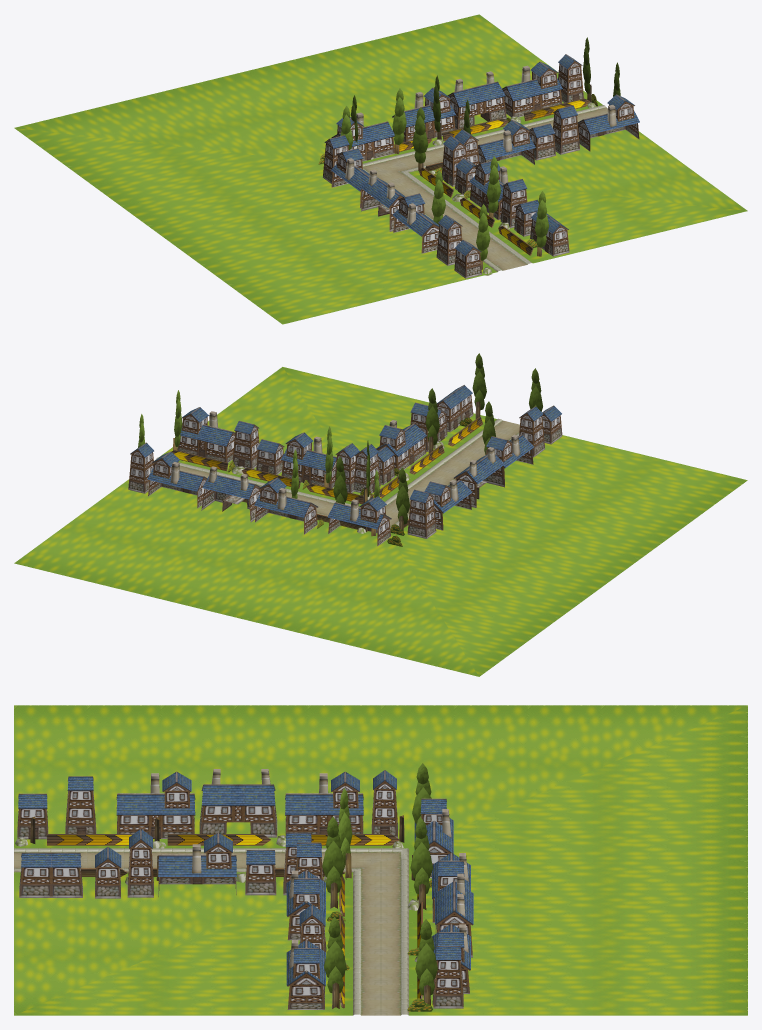
Rendered from VillageRoad02_Right.FBX.
3 renders of one model, top to bottom at view 1: azimuth 30°, elevation 25°; view 2: azimuth 150°, elevation 25°; view 3: azimuth 270°, elevation 25°, orthographic. The views are drawn at different scales.
Visible parts, largest first — view 1: Road, House (×21), Tree (×5), Fence; view 2: Road, House (×19), Tree (×3); view 3: Road, House (×21), Tree (×6), Fence (×3).
Part boxes in pixels (x1,y1,x2,y2): Road: [14, 14, 747, 324]; House (×21): [323, 54, 639, 278]; Tree (×5): [392, 88, 548, 269]; Fence: [523, 98, 590, 120]; Road: [14, 367, 747, 676]; House (×19): [128, 385, 562, 546]; Tree (×3): [396, 353, 486, 530]; Road: [14, 705, 747, 1015]; House (×21): [17, 769, 473, 1009]; Tree (×6): [322, 763, 437, 1008]; Fence (×3): [47, 834, 399, 845].
Size of the model in its own units: 10000 by 1390 by 10000.
